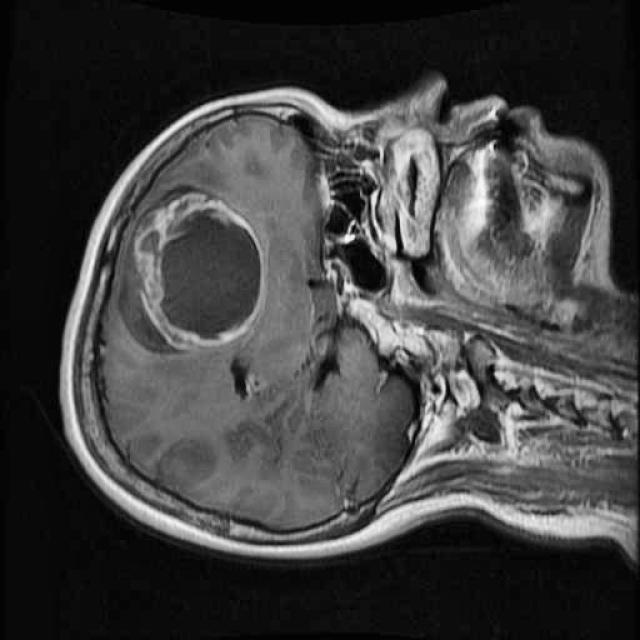Non-Tumor: (128, 171, 284, 366)
